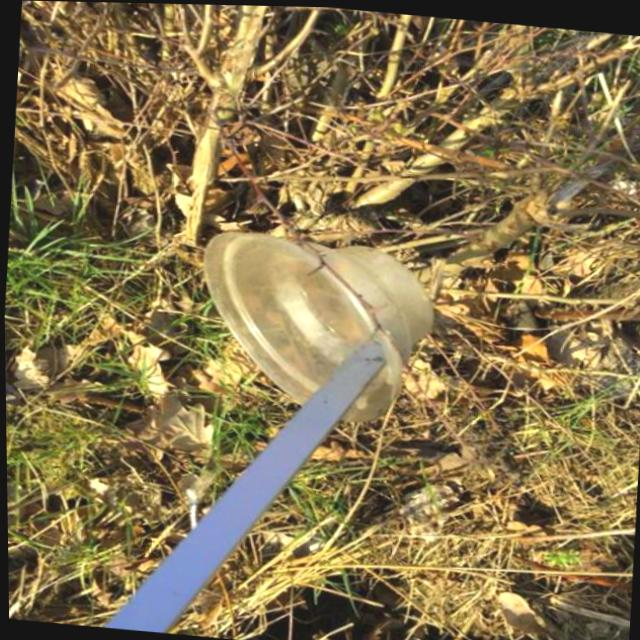Paper: (190, 223, 444, 431)
